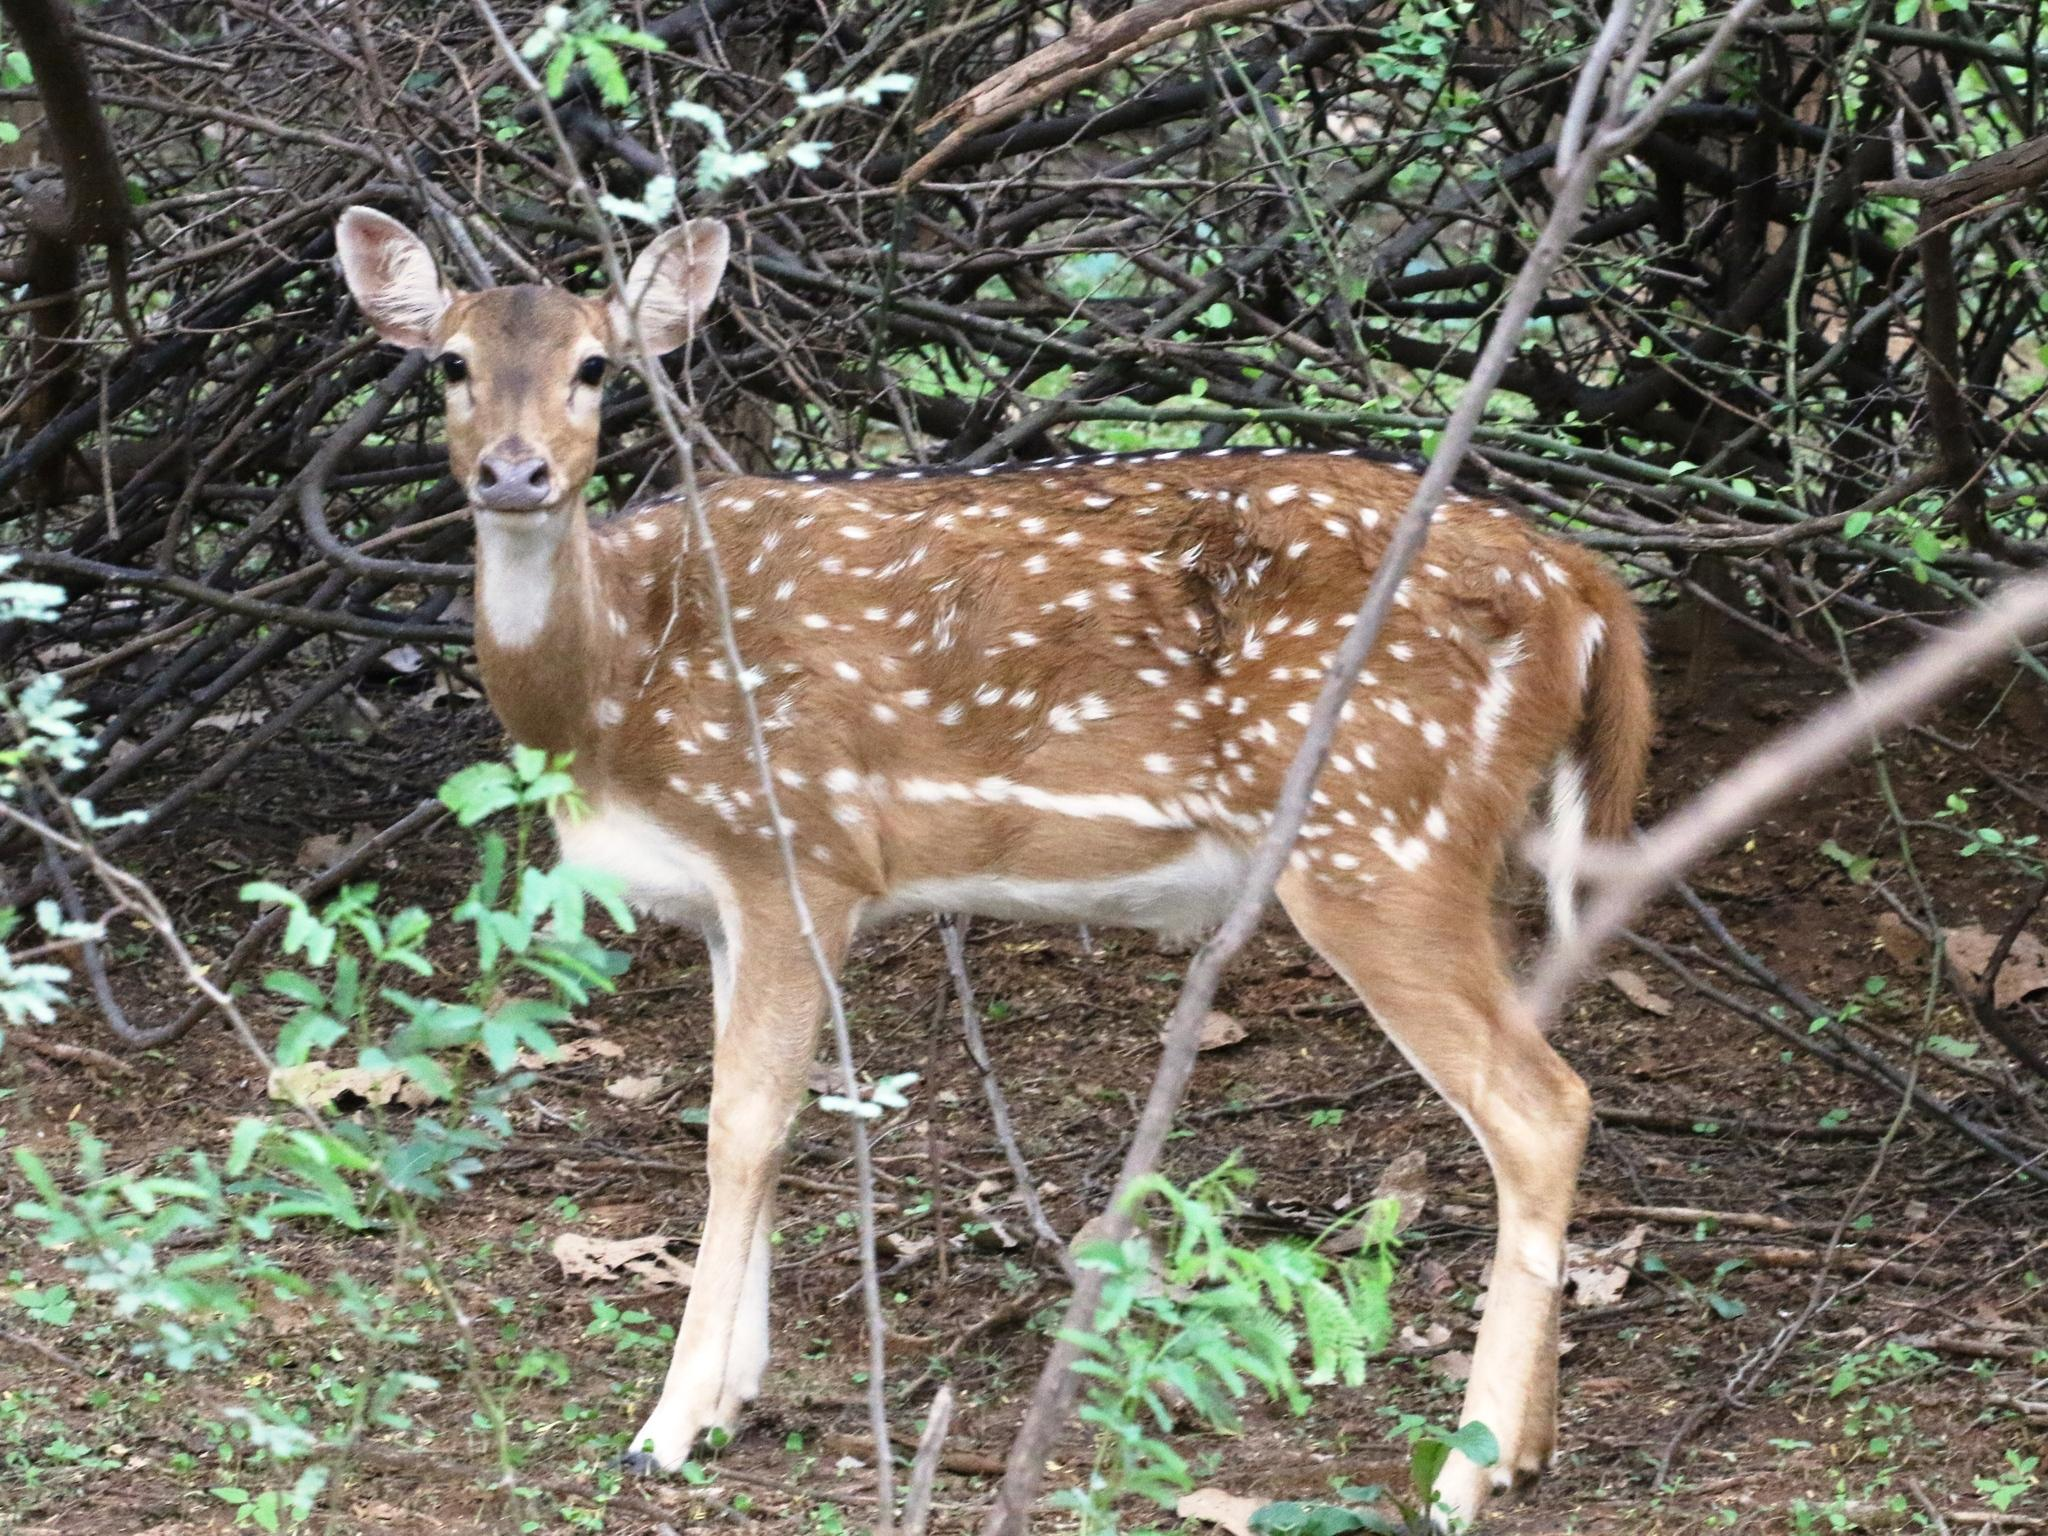Deer: (335, 207, 1651, 1521)
